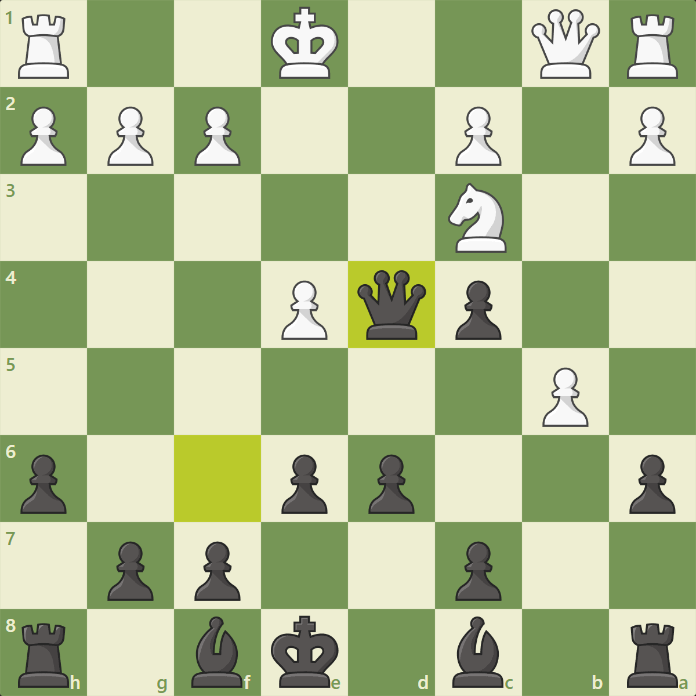K: (269, 5, 341, 82)
N: (446, 181, 511, 256)
P: (539, 365, 592, 430), (277, 276, 330, 341), (626, 103, 679, 168), (453, 103, 506, 168), (192, 103, 245, 168), (105, 103, 158, 168), (17, 103, 70, 168)
Q: (529, 6, 602, 82)
R: (624, 11, 681, 82), (14, 11, 71, 82)
b: (450, 615, 506, 691), (190, 614, 245, 691)
k: (269, 614, 341, 691)
p: (18, 452, 69, 518), (104, 537, 155, 603), (191, 538, 242, 604), (279, 450, 330, 516), (366, 450, 417, 516), (452, 537, 503, 603), (626, 451, 677, 517), (452, 276, 503, 342)
q: (353, 267, 430, 343)
r: (624, 620, 681, 691), (14, 621, 72, 690)
